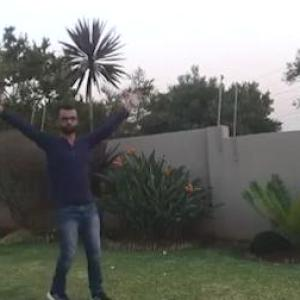takeoff: (1, 93, 138, 299)
